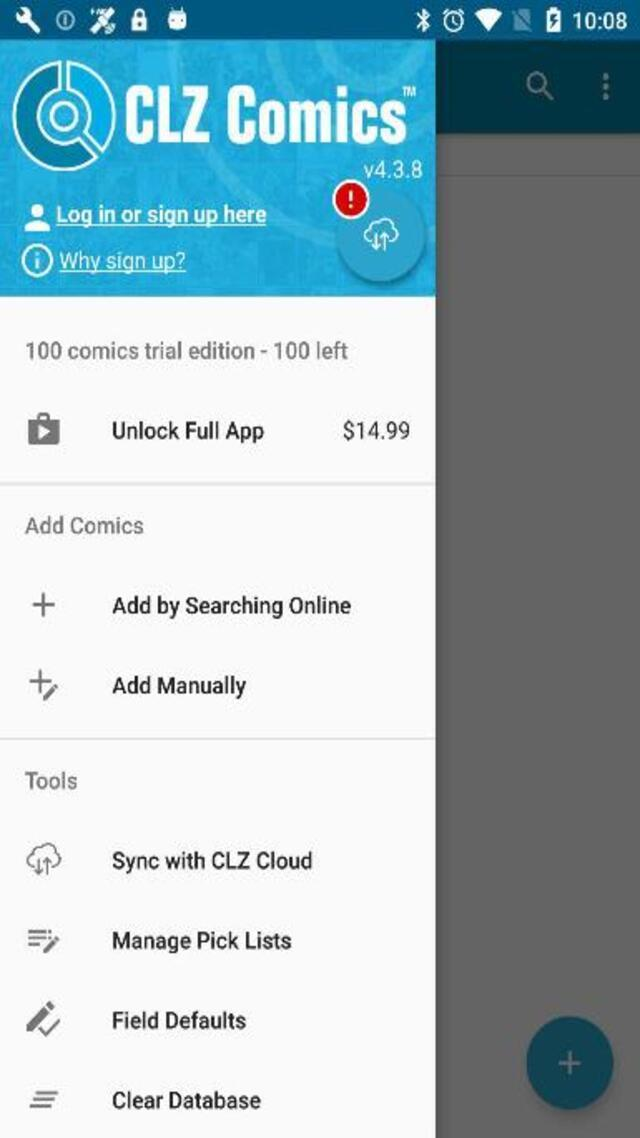Icon: (524, 1018, 612, 1110), (332, 178, 370, 220), (26, 1000, 60, 1038), (26, 842, 60, 876), (363, 217, 398, 249), (20, 242, 52, 276), (27, 412, 59, 444), (28, 670, 58, 700), (527, 72, 554, 102), (27, 928, 59, 953), (24, 203, 49, 231), (32, 592, 54, 617), (28, 1090, 58, 1108), (602, 73, 608, 101)
Image: (11, 61, 114, 170)
Text: (123, 84, 417, 148), (25, 341, 347, 360), (112, 594, 350, 619), (56, 203, 266, 226), (114, 851, 312, 874), (112, 931, 290, 954), (112, 420, 264, 444), (112, 674, 247, 699), (112, 1089, 260, 1109), (60, 251, 186, 274), (113, 1009, 246, 1029), (25, 514, 145, 534), (342, 419, 408, 442), (362, 160, 422, 178), (25, 770, 78, 790)
